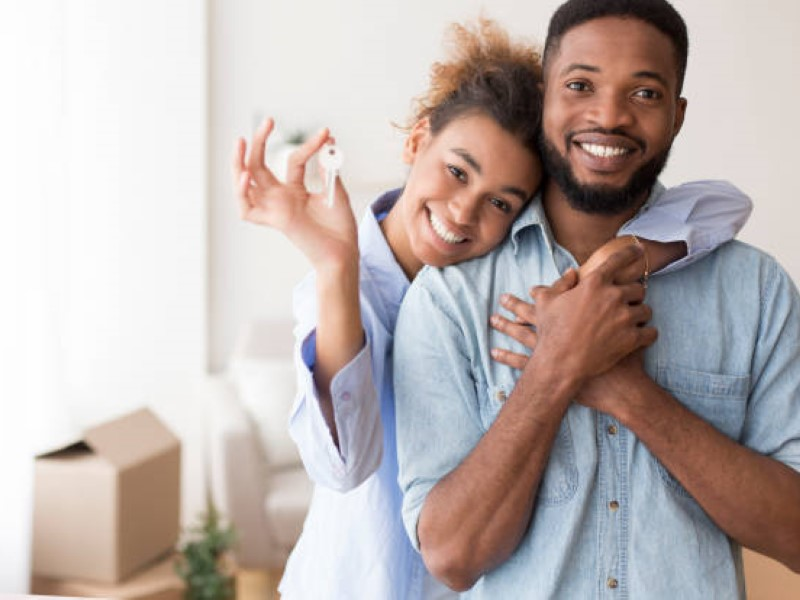key: (314, 141, 345, 207)
